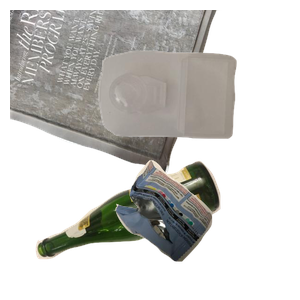glass: (33, 158, 246, 300)
paper: (10, 10, 222, 176)
plastic: (96, 48, 300, 179)
trash: (113, 157, 300, 300)
